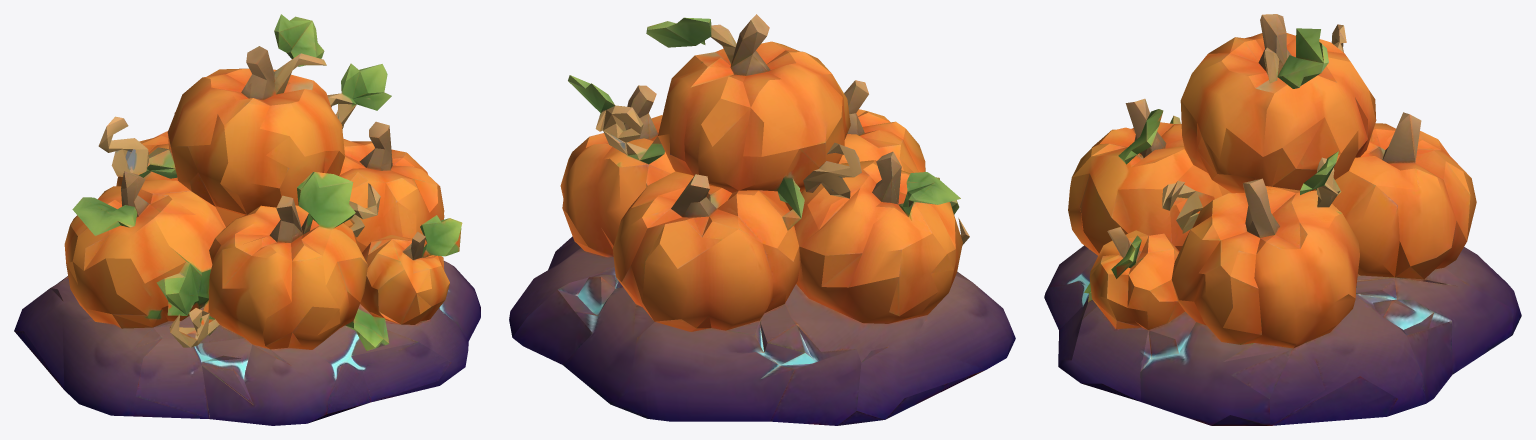
File: pumpkin_patch.glb
3 views of the same model, side by side, from view 1: azimuth 30°, elevation 25°; view 2: azimuth 150°, elevation 25°; view 3: azimuth 270°, elevation 25° (orthographic). The views are drawn at different scales.
Bounding box in the file's own units: 1.89 × 1.31 × 1.78.
1 material, 1 textured.
